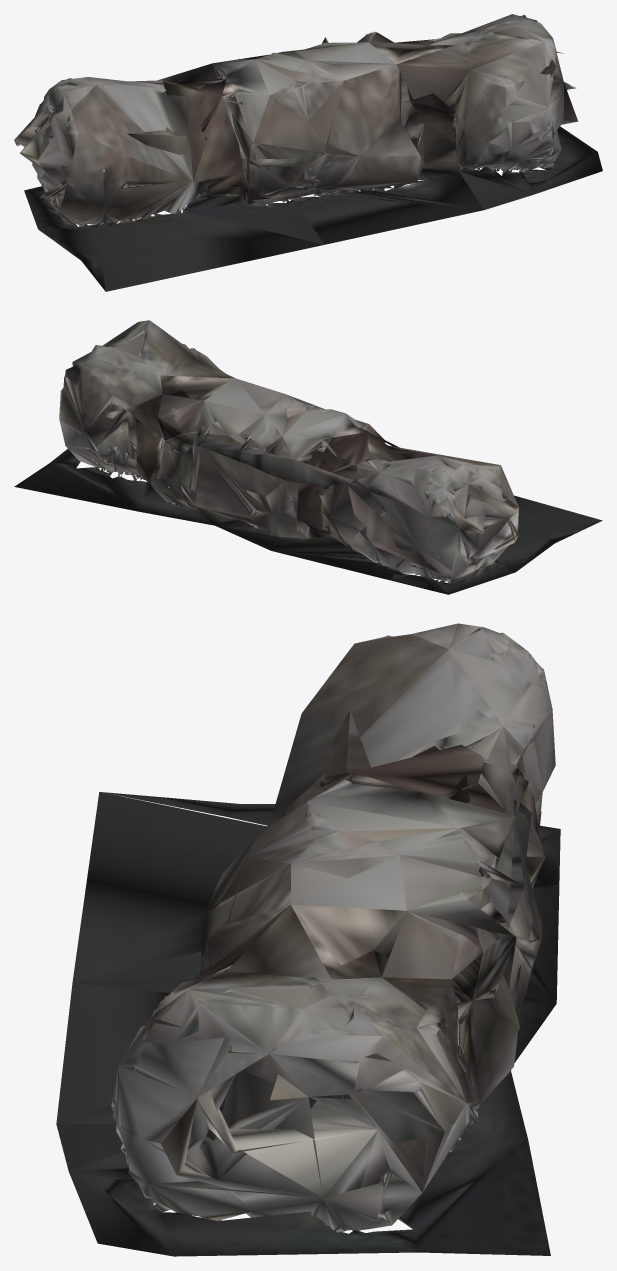
The model's file is couro_lobisomem_zahar.glb.
3 views of the same model, one above another, from view 1: azimuth 30°, elevation 25°; view 2: azimuth 150°, elevation 25°; view 3: azimuth 270°, elevation 25° (orthographic). The views are drawn at different scales.
Parts seen in each view (by area): view 1: geometry_0; view 2: geometry_0; view 3: geometry_0.
Boxes of the visible parts, left/top/right/bottom form: geometry_0: left=14, top=14, right=602, bottom=291; geometry_0: left=14, top=320, right=602, bottom=594; geometry_0: left=56, top=623, right=560, bottom=1256.
Size of the model in its own units: 1 by 0.2346 by 0.4578.
1 material, 1 textured.
